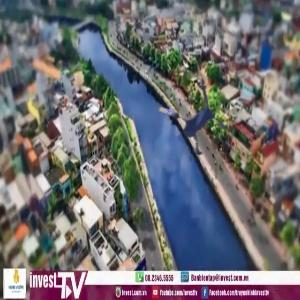drone: (142, 67, 242, 167)
